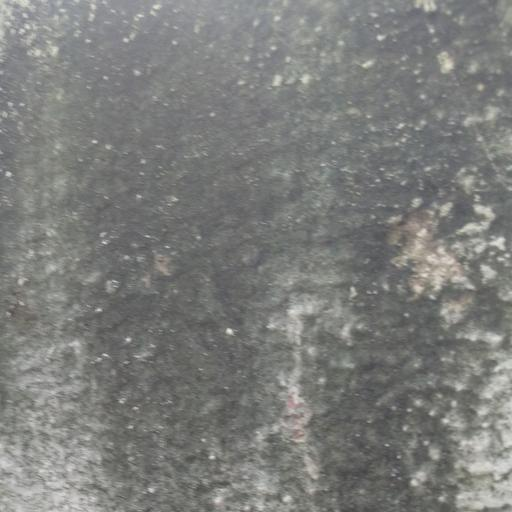algae: (5, 7, 512, 497)
